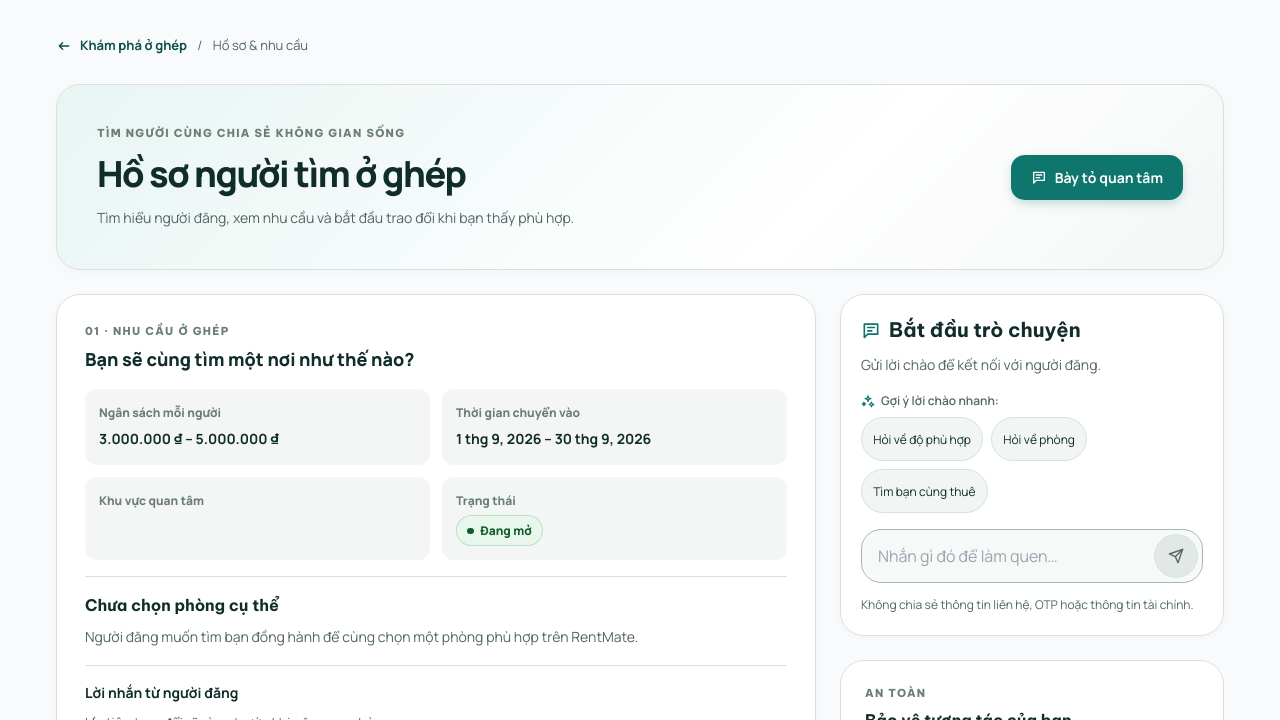
Test case: RoommateRequestDetailPage › replaces suggested greetings and preserves the message after a failed send
This screenshot has width=1280, height=720.
Expected: the button named "Gửi tin nhắn" is disabled, [1154,534,1198,578]
Click the button "Hỏi về phòng" at (1039, 440), box [991,418,1087,462]
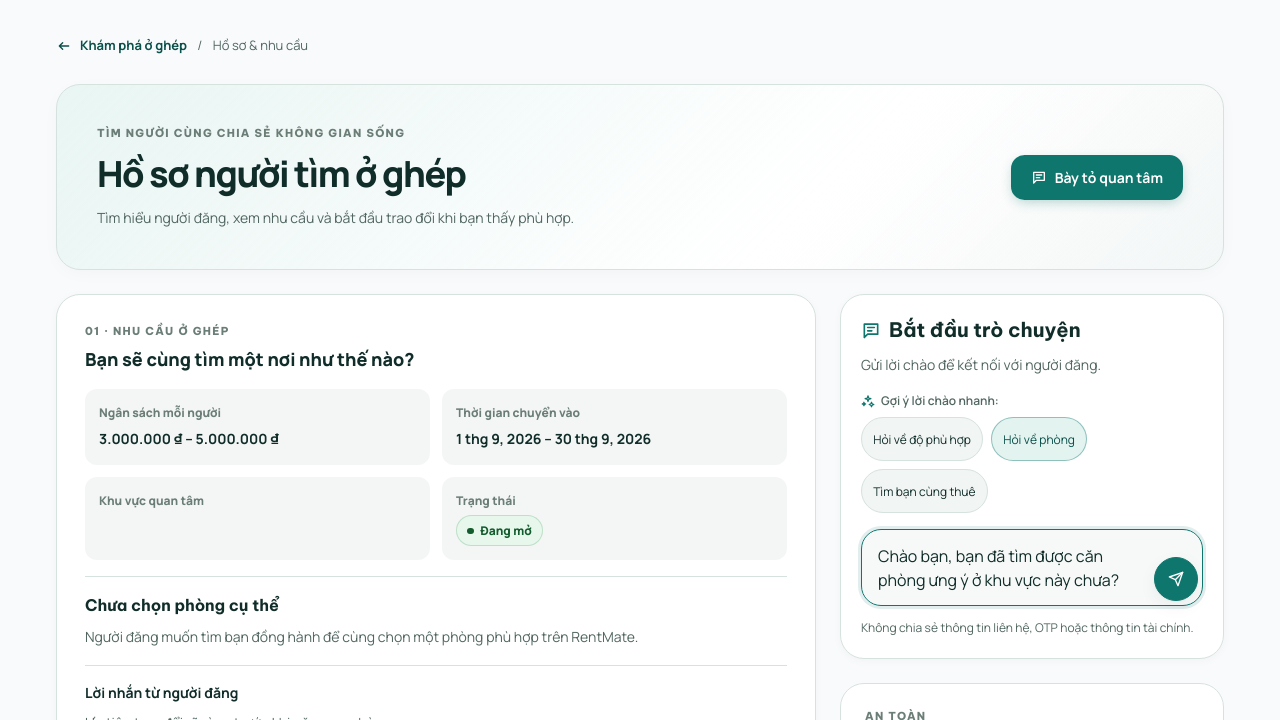
Click the button "Tìm bạn cùng thuê" at (924, 492), box [861,470,988,514]
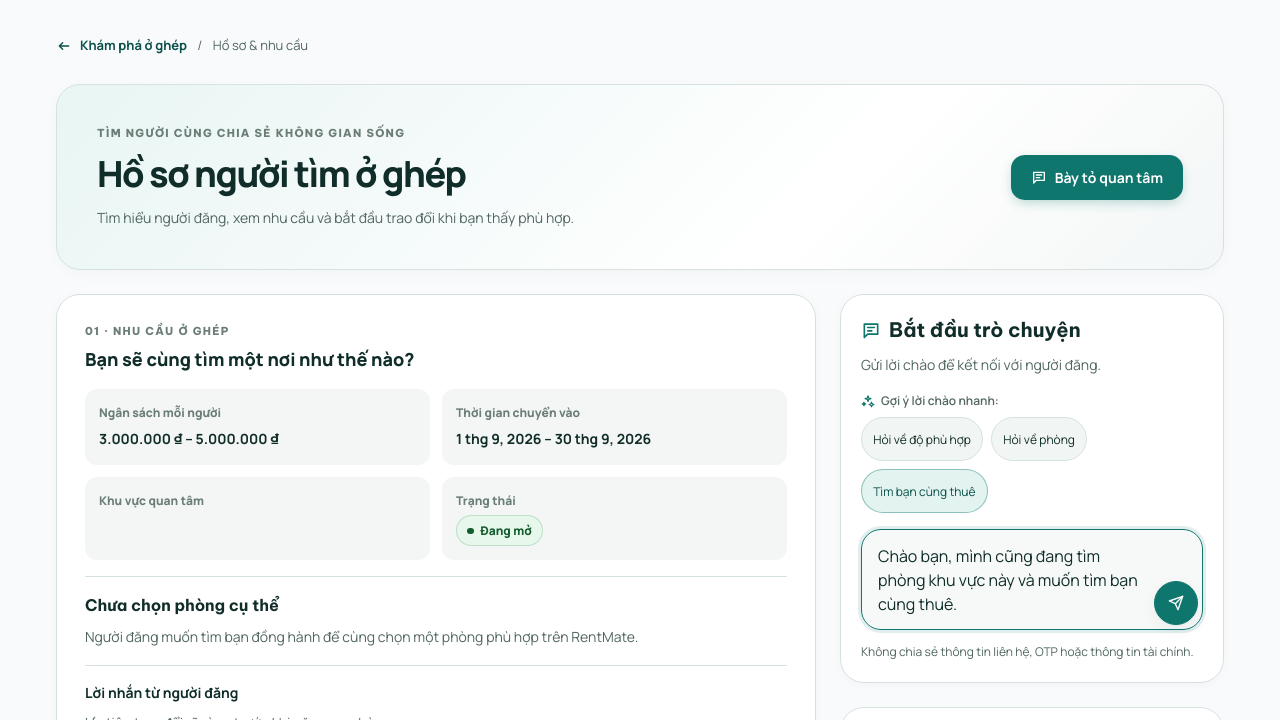
Now the text box named "Lời nhắn mở đầu (bắt buộc)" holds "Chào bạn, mình cũng đang tìm phòng khu vực này và muốn tìm bạn cùng thuê."
Press Enter in the text box named "Lời nhắn mở đầu (bắt buộc)", box [866,534,1150,626]
Press Enter in the text box named "Lời nhắn mở đầu (bắt buộc)", box [866,534,1150,626]
Press Enter in the text box named "Lời nhắn mở đầu (bắt buộc)", box [866,534,1150,626]
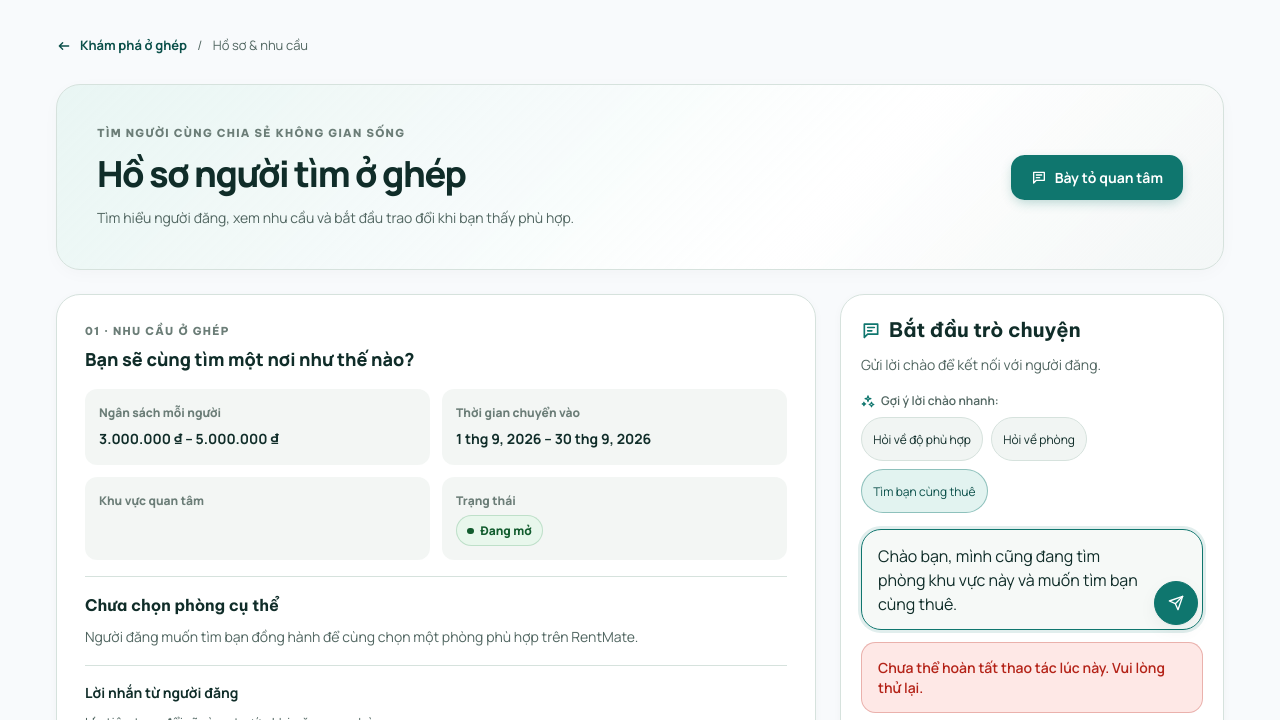
Now the text box named "Lời nhắn mở đầu (bắt buộc)" holds "Chào bạn, mình cũng đang tìm phòng khu vực này và muốn tìm bạn cùng thuê.", box [866,534,1150,626]
Now the message "Chưa thể hoàn tất thao tác lúc này. Vui lòng thử lại." is shown, box [861,642,1203,713]
